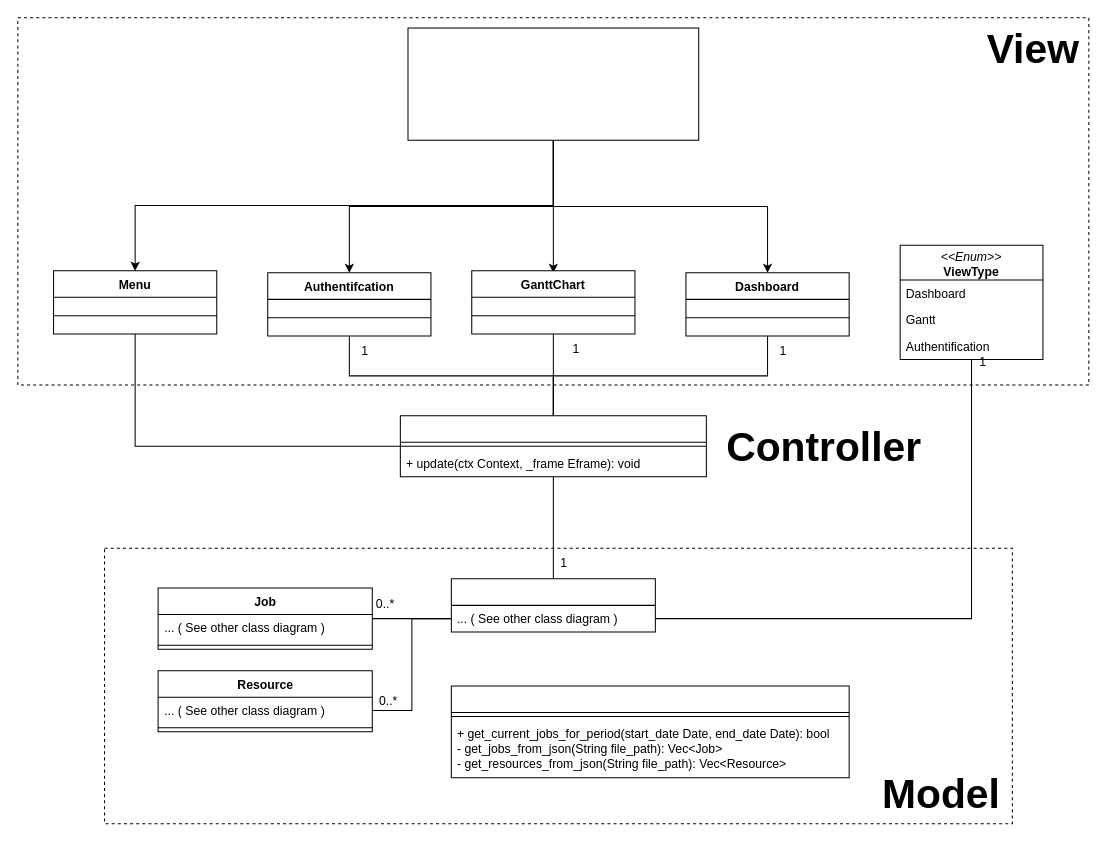
Image size: 1107x842. Some labels were removed from this diagram. Here are the shapes that lost their labels. From the top down, the box of each, then its label:
(407, 27, 699, 140): <<Abstract>> View + render(Ui ui, ApplicationContext app): void
(399, 415, 706, 477): App
(450, 578, 655, 632): ApplicationContext
(450, 685, 849, 778): Parser
